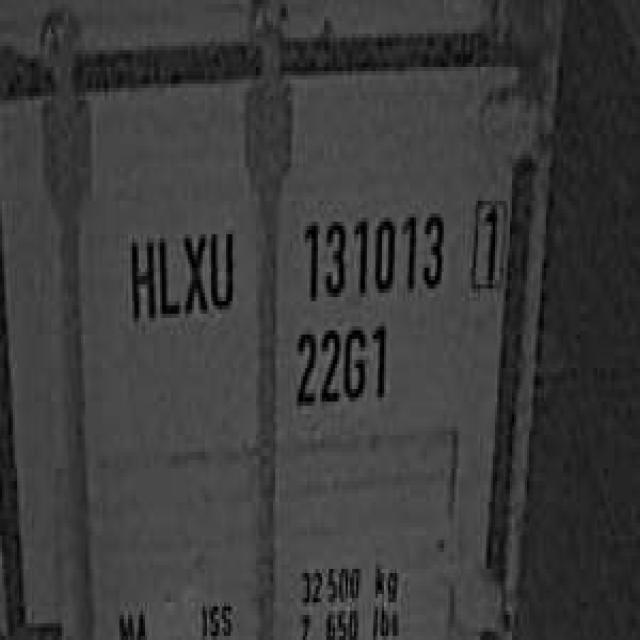dv: (465, 184, 510, 301)
owner: (122, 214, 239, 330)
serial: (294, 197, 448, 306)
size: (290, 314, 393, 414)
